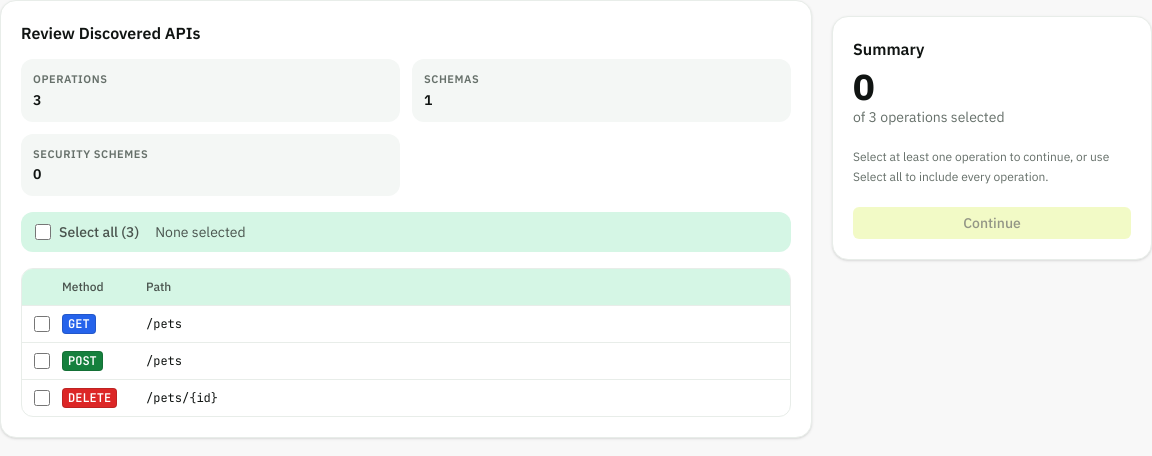
Scenario: ApiReviewStage operation selection › updates the summary count and method breakdown to the selected operations
Click the checkbox named "Include DELETE /pets/{id}" at coordinates (42, 398), box [34,390,50,406]
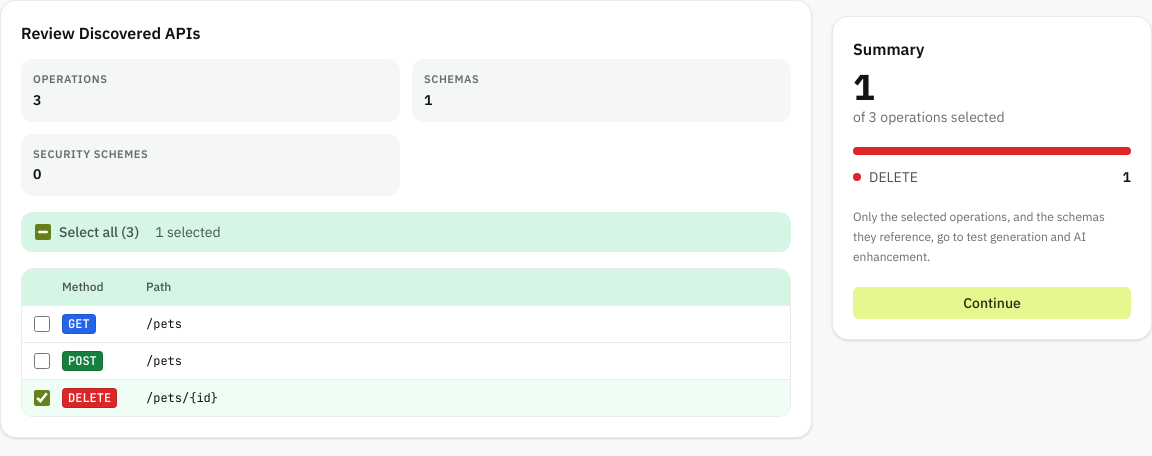
Check: the text "DELETE" is shown, box [853,167,918,187]
